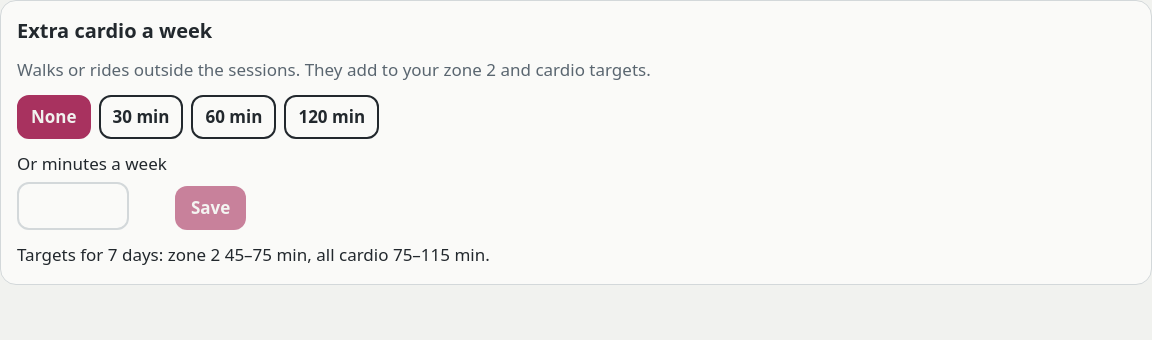
Scenario: a refused save says why (fail)
This screenshot has width=1152, height=340.
Click the button "30 min" at (141, 117), box left=99, top=95, right=184, bottom=139
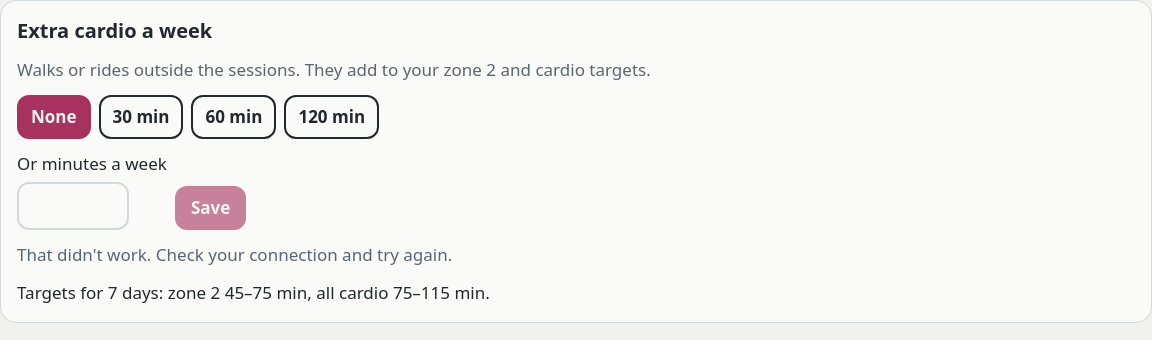
Expected: the text "That didn't work. Check your connection and try again." is shown, left=17, top=243, right=452, bottom=266
